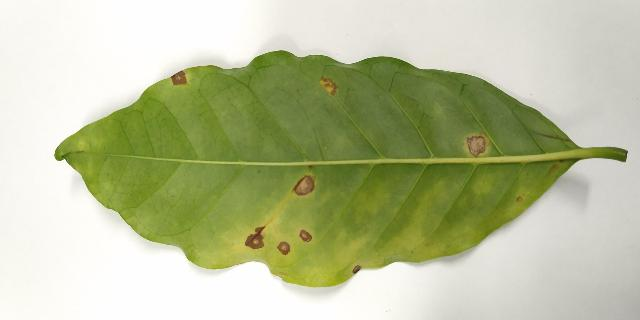phoma: (244, 219, 272, 250), (464, 133, 489, 160), (292, 175, 315, 196), (320, 78, 336, 95), (170, 70, 187, 85), (277, 241, 290, 255), (298, 229, 312, 242), (352, 265, 363, 276)
